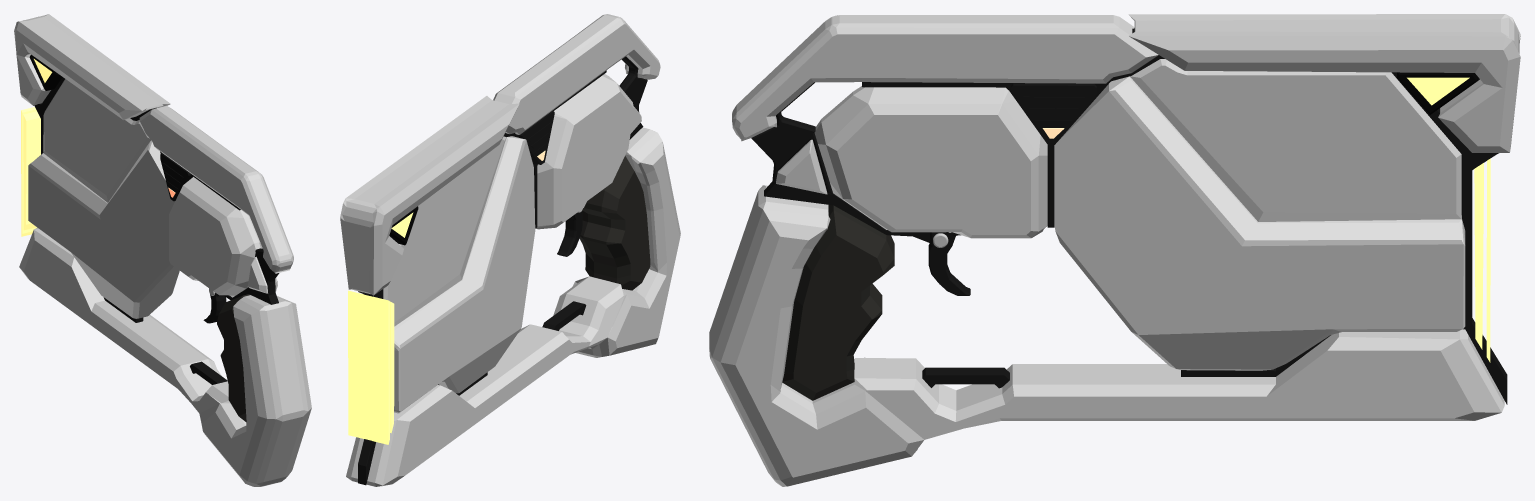
File: sci-fi_gun.glb
The picture shows the model from 3 angles, left to right: view 1: azimuth 30°, elevation 25°; view 2: azimuth 150°, elevation 25°; view 3: azimuth 270°, elevation 25°; orthographic projection. The views are drawn at different scales.
Parts seen in each view (by area): view 1: Cube.001, Cube.003, Cube.007, Cube.002, Cube.008, Cube.004, Cube.015, Cube.005, Cube.013, Cube.014, Cube.011, Cube.009 (+1 smaller); view 2: Cube.001, Cube.003, Cube.008, Cube.002, Cube.007, Cube.015, Cube.004, Cube.005, Cube.013, Cube.014, Cube.009; view 3: Cube.001, Cube.003, Cube.002, Cube.008, Cube.007, Cube.004, Cube.005, Cube.013, Cube.014, Cube.015, Cube.011, Cube.009 (+2 smaller).
Boxes of the visible parts, x1=… form: Cube.001: x1=28, y1=79, x2=179, y2=318; Cube.003: x1=19, y1=228, x2=311, y2=486; Cube.007: x1=139, y1=106, x2=293, y2=273; Cube.002: x1=169, y1=177, x2=262, y2=297; Cube.008: x1=14, y1=14, x2=170, y2=119; Cube.004: x1=217, y1=294, x2=249, y2=422; Cube.015: x1=21, y1=107, x2=40, y2=236; Cube.005: x1=34, y1=77, x2=279, y2=322; Cube.013: x1=160, y1=153, x2=191, y2=201; Cube.014: x1=203, y1=287, x2=278, y2=323; Cube.011: x1=247, y1=256, x2=277, y2=293; Cube.009: x1=190, y1=361, x2=227, y2=384; Cube.001: x1=383, y1=136, x2=535, y2=413; Cube.003: x1=346, y1=127, x2=680, y2=486; Cube.008: x1=340, y1=96, x2=519, y2=295; Cube.002: x1=536, y1=74, x2=633, y2=229; Cube.007: x1=493, y1=14, x2=660, y2=134; Cube.015: x1=348, y1=290, x2=394, y2=444; Cube.004: x1=579, y1=156, x2=650, y2=290; Cube.005: x1=358, y1=56, x2=647, y2=485; Cube.013: x1=519, y1=111, x2=554, y2=164; Cube.014: x1=557, y1=123, x2=643, y2=256; Cube.009: x1=542, y1=301, x2=586, y2=330; Cube.001: x1=1055, y1=59, x2=1465, y2=370; Cube.003: x1=709, y1=185, x2=1504, y2=486; Cube.002: x1=814, y1=86, x2=1047, y2=238; Cube.008: x1=1128, y1=14, x2=1520, y2=152; Cube.007: x1=732, y1=15, x2=1158, y2=141; Cube.004: x1=782, y1=205, x2=894, y2=400; Cube.005: x1=751, y1=28, x2=1507, y2=404; Cube.013: x1=1011, y1=83, x2=1096, y2=142; Cube.014: x1=764, y1=182, x2=970, y2=295; Cube.015: x1=1474, y1=158, x2=1490, y2=362; Cube.011: x1=776, y1=139, x2=827, y2=194; Cube.009: x1=922, y1=367, x2=1009, y2=388.
Size of the model in its own units: 1.28 by 6.87 by 11.01.
